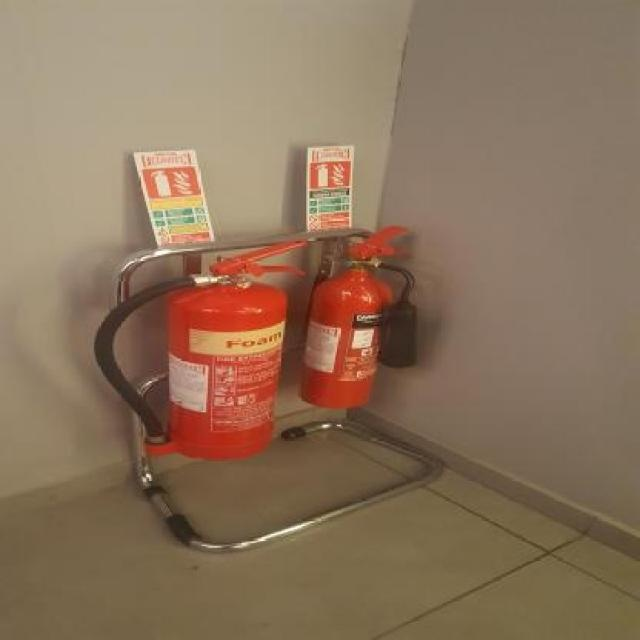fire extinguisher: (95, 238, 312, 459), (297, 224, 429, 411)
